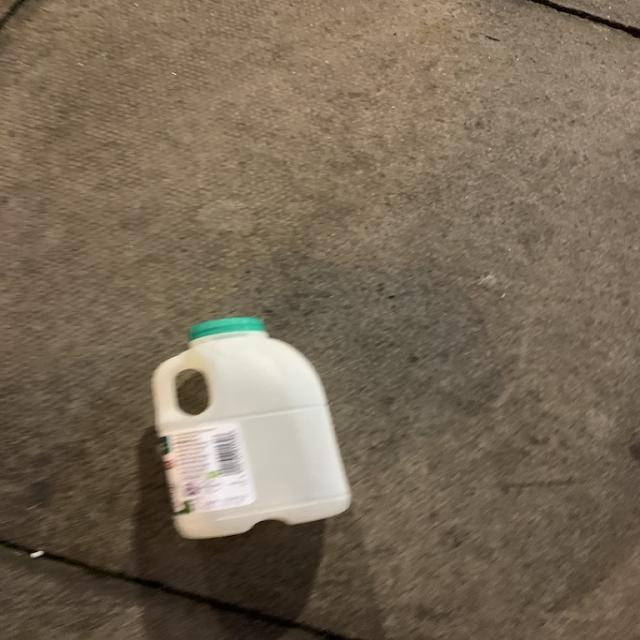litter: (146, 318, 358, 540)
